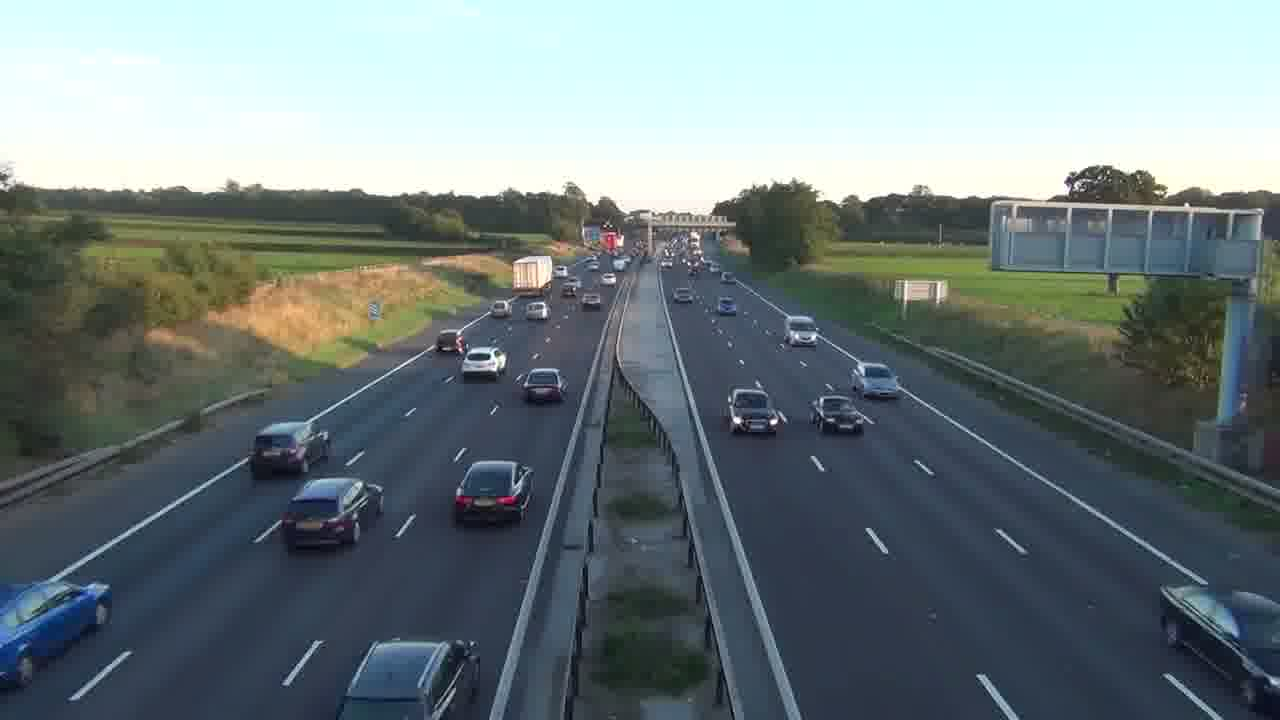car: (335, 636, 482, 718), (281, 476, 370, 552), (453, 459, 535, 525), (727, 388, 788, 436), (809, 395, 869, 435), (849, 361, 900, 400)
truck: (1158, 582, 1280, 714), (0, 578, 113, 670), (250, 421, 325, 478), (513, 255, 553, 293)
